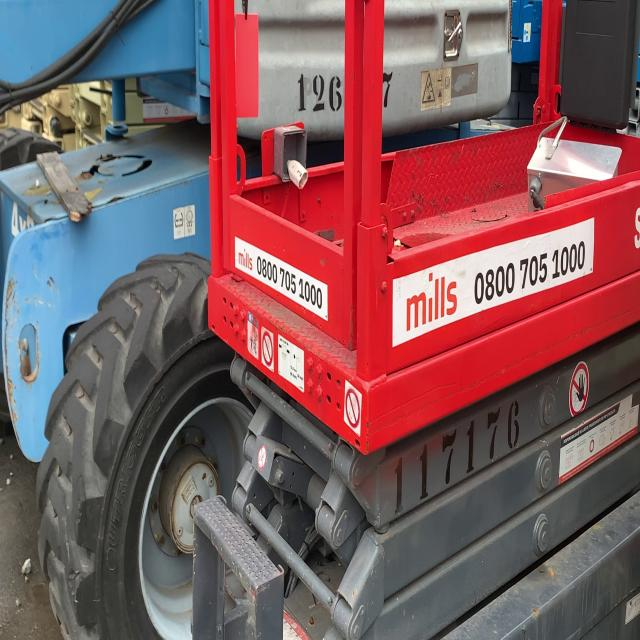Adesivo Longo: (391, 214, 596, 351), (234, 233, 329, 323)
